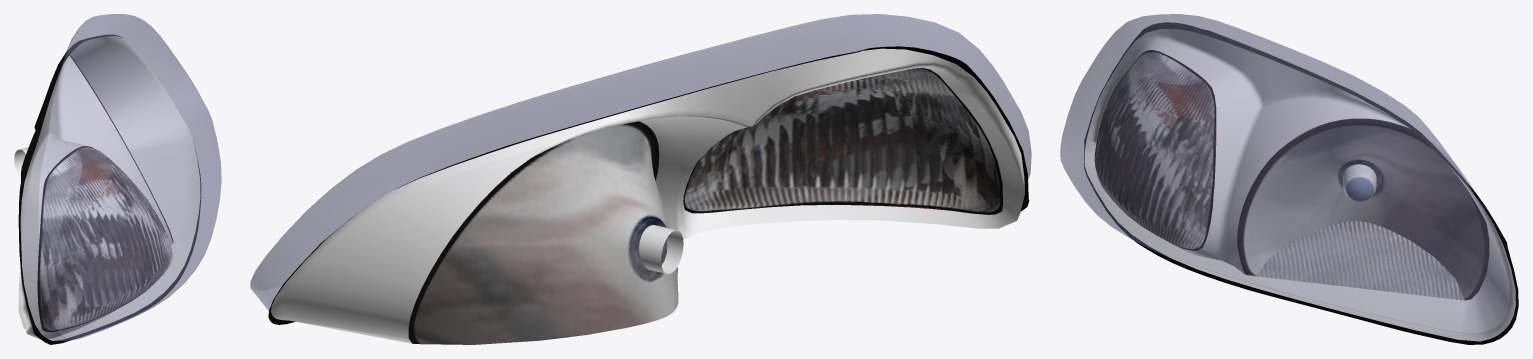
3 views of the same model, side by side, from view 1: azimuth 30°, elevation 25°; view 2: azimuth 150°, elevation 25°; view 3: azimuth 270°, elevation 25° (orthographic). The views are drawn at different scales.
Parts seen in each view (by area): view 1: H025_10_061B_R_H025_10_061B_R_1_DTaSI, H025_10_061B_R_H025_10_061B_R_2_N, H025_10_061B_R_3_D_H025_10_061B_R; view 2: H025_10_061B_R_H025_10_061B_R_2_N, H025_10_061B_R_H025_10_061B_R_1_DTaSI, H025_10_061B_R_3_D_H025_10_061B_R; view 3: H025_10_061B_R_H025_10_061B_R_1_DTaSI, H025_10_061B_R_H025_10_061B_R_2_N, H025_10_061B_R_3_D_H025_10_061B_R.
Part boxes in pixels (x1,y1,x2,y2): H025_10_061B_R_H025_10_061B_R_1_DTaSI: (21, 14, 221, 340); H025_10_061B_R_H025_10_061B_R_2_N: (14, 36, 200, 340); H025_10_061B_R_3_D_H025_10_061B_R: (18, 35, 200, 344); H025_10_061B_R_H025_10_061B_R_2_N: (271, 48, 1024, 344); H025_10_061B_R_H025_10_061B_R_1_DTaSI: (250, 14, 1031, 310); H025_10_061B_R_3_D_H025_10_061B_R: (268, 46, 1029, 324); H025_10_061B_R_H025_10_061B_R_1_DTaSI: (1060, 14, 1515, 341); H025_10_061B_R_H025_10_061B_R_2_N: (1084, 29, 1515, 341); H025_10_061B_R_3_D_H025_10_061B_R: (1084, 22, 1518, 344).
Bounding box in the file's own units: 36.95 × 18.35 × 38.92.
